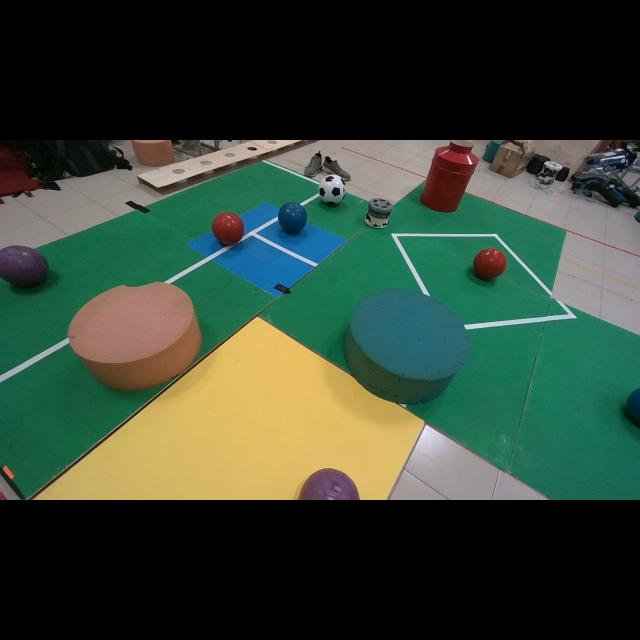B: (279, 202, 306, 234)
P: (0, 245, 49, 286), (299, 469, 360, 500)
R: (472, 248, 508, 280), (212, 212, 244, 245)
